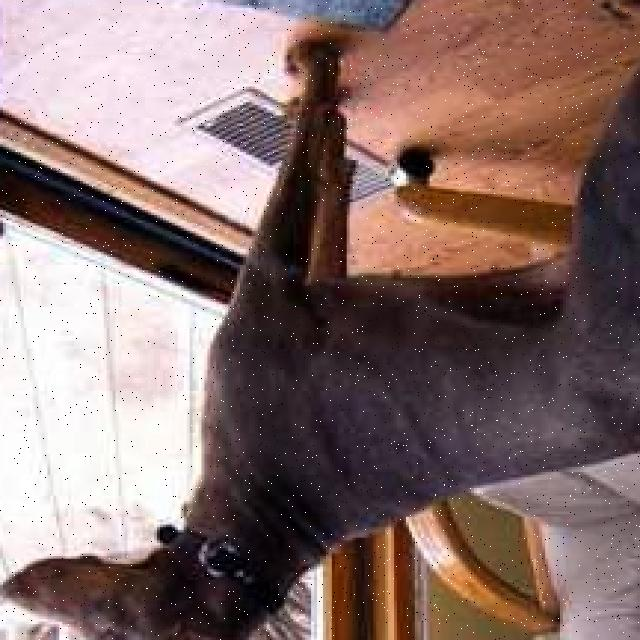Dog: (0, 527, 285, 640)
